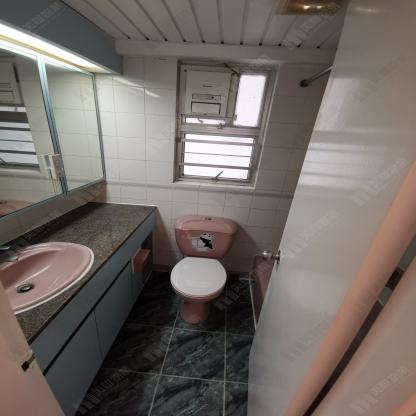Exhaust Fan: (169, 53, 242, 127)
Toilet: (169, 215, 240, 323)
Toilet Sink: (0, 222, 132, 341)
